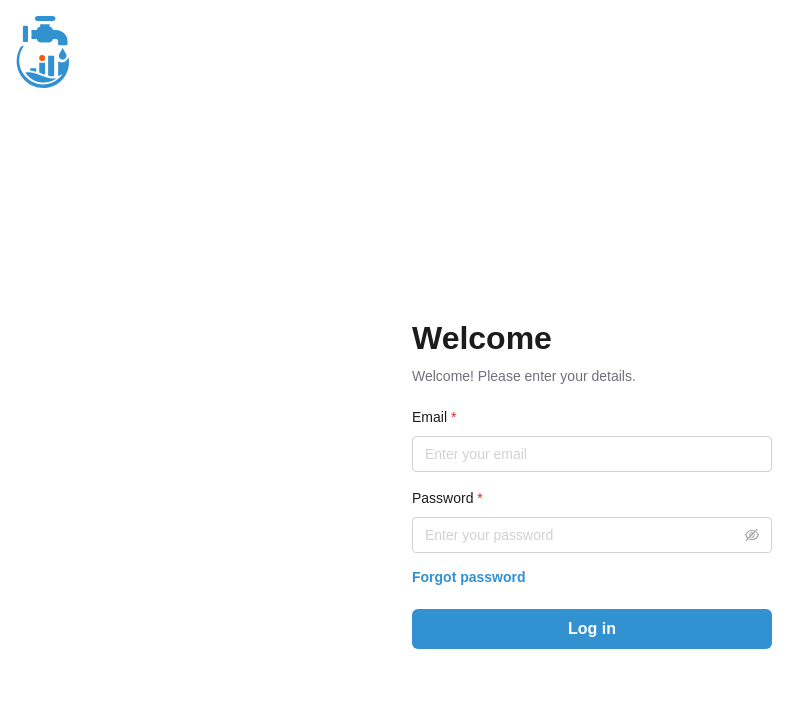
Test: LoginPage › stale server error clears on re-submit
Type "user@test.com" into the field with placeholder "Enter your email".
click(592, 454); type("user@test.com")  # box [412,436,772,472]
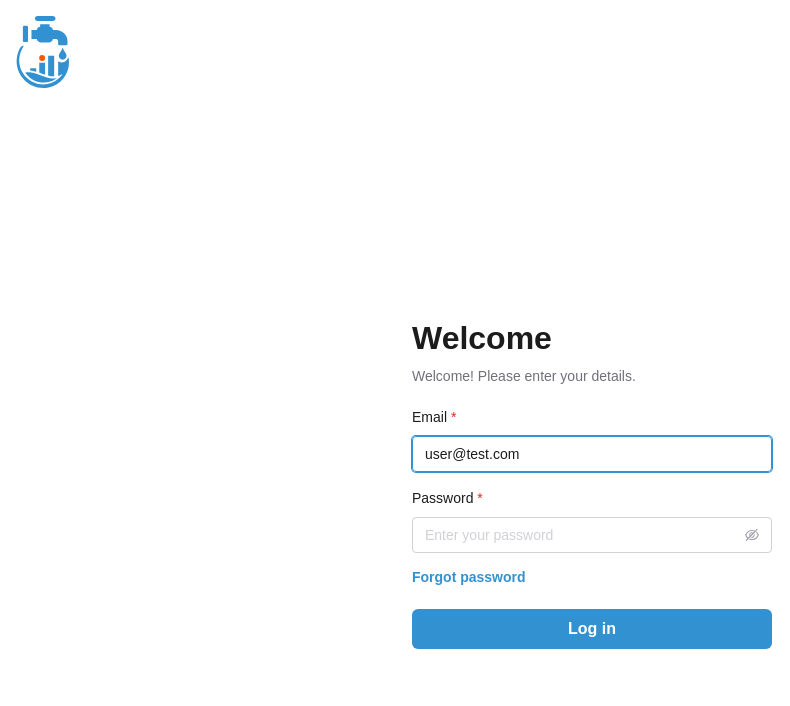
Type "wrongpass" into the password field with placeholder "Enter your password".
click(592, 535); type("wrongpass")  # box [412,517,772,553]
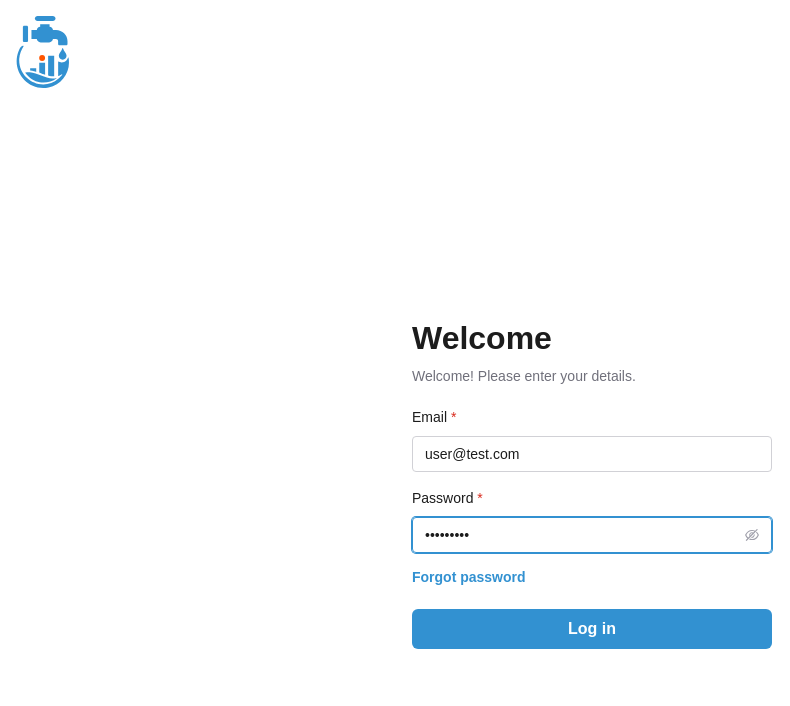
first submit — should show error
Click the button "Log in".
click(592, 629)  # box [412,609,772,649]
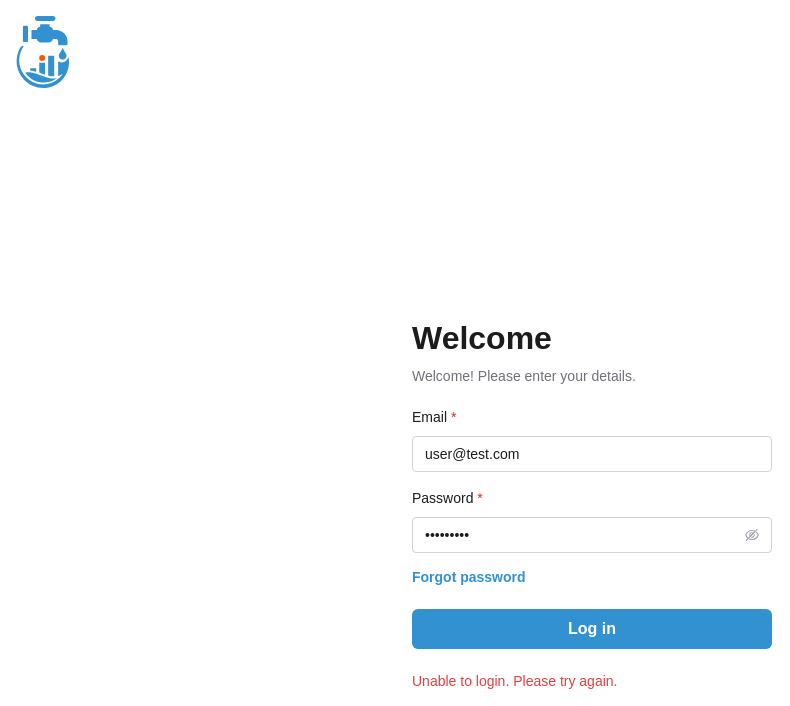
Result: the text "Unable to login. Please try again." is shown at [412,673,618,689]
second submit (valid) — error should disappear while submitting
Click the button "Log in".
click(592, 629)  # box [412,609,772,649]
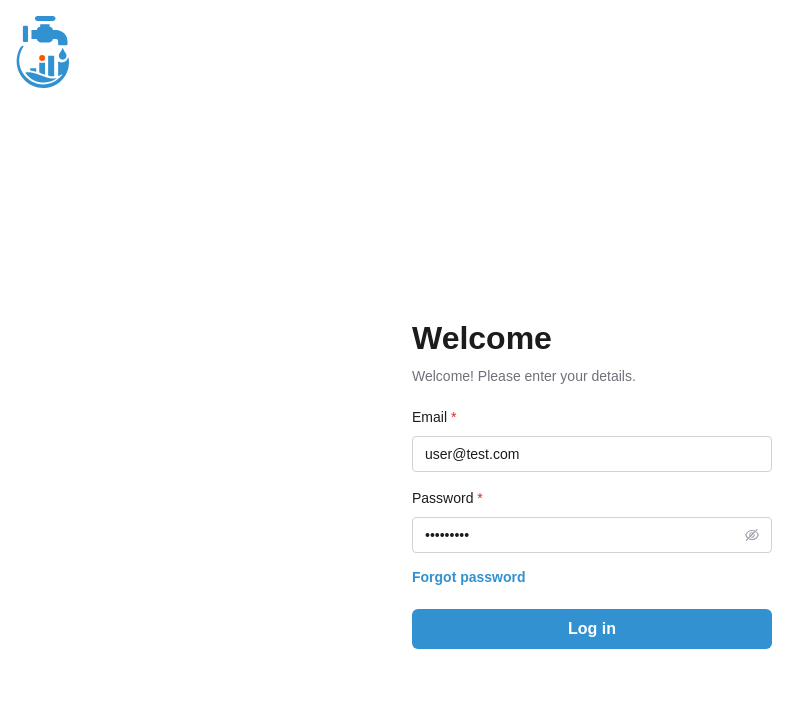
Result: the text "Unable to login. Please try again." is gone
